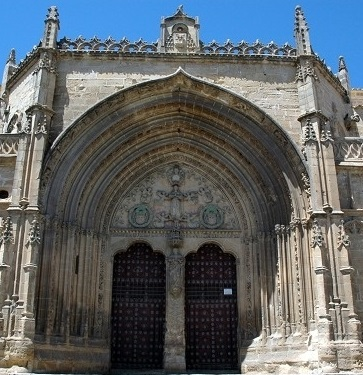arco-apuntado: (97, 90, 265, 226)
arco-conopial: (107, 64, 246, 94)
arco-trilobulado: (107, 235, 171, 268), (180, 237, 243, 269)
pinaculo-gotico: (290, 2, 312, 37)
